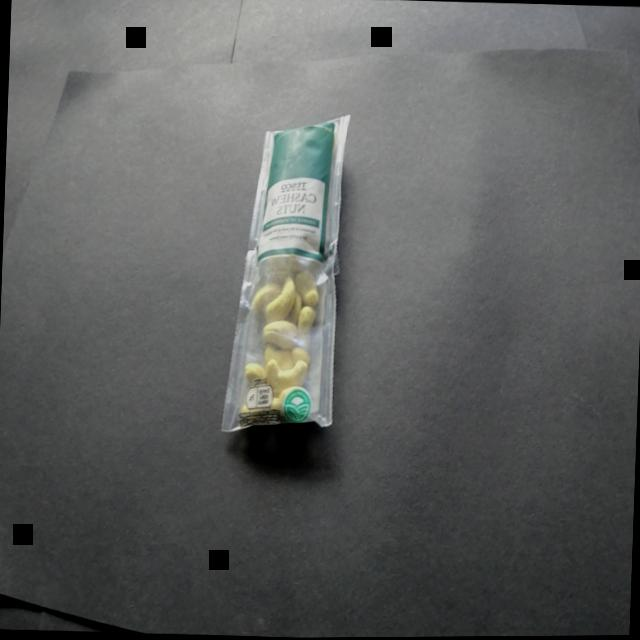Cashewnut: (204, 96, 373, 456)
